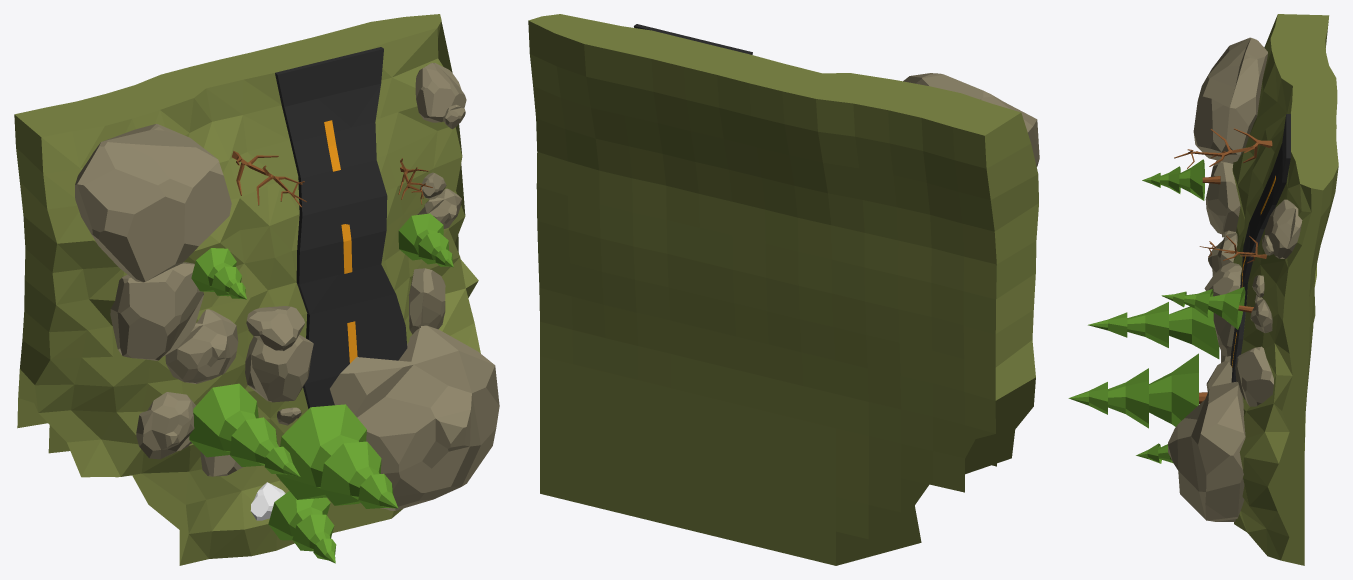
The model's file is uploads_files_3707747_landscape.glb.
3 renders of one model, left to right at view 1: azimuth 30°, elevation 25°; view 2: azimuth 150°, elevation 25°; view 3: azimuth 270°, elevation 25°, orthographic. The views are drawn at different scales.
Visible parts, largest first — view 1: Terrain, Road, Rock.001, Rock.003, Tree, Rock, Tree.002, Rock.008, Rock.009, Tree.001, Rock.004, Rock.020 (+9 smaller); view 2: Terrain, Rock.003; view 3: Terrain, Rock.001, Rock.003, Tree, Tree.002, Road, Rock, Rock.015, Tree.005, Rock.020, Tree.003, Rock.010 (+6 smaller).
Part boxes in pixels (x1,y1,x2,y2): Terrain: (14, 14, 480, 565); Road: (275, 47, 407, 408); Rock.001: (330, 325, 499, 510); Rock.003: (75, 124, 231, 282); Tree: (276, 404, 397, 508); Rock: (110, 262, 203, 360); Tree.002: (189, 383, 300, 477); Rock.008: (165, 309, 238, 383); Rock.009: (245, 334, 313, 402); Tree.001: (268, 491, 336, 563); Rock.004: (136, 392, 195, 459); Rock.020: (415, 63, 466, 122); Terrain: (528, 14, 1038, 565); Rock.003: (903, 73, 1039, 166); Terrain: (1232, 14, 1338, 565); Rock.001: (1168, 361, 1245, 521); Rock.003: (1193, 37, 1267, 163); Tree: (1068, 353, 1207, 428); Tree.002: (1088, 302, 1219, 358); Road: (1230, 114, 1290, 382); Rock: (1205, 160, 1240, 237); Rock.015: (1235, 346, 1273, 406); Tree.005: (1161, 287, 1253, 329); Rock.020: (1265, 199, 1302, 258); Tree.003: (1142, 159, 1220, 200); Rock.010: (1204, 262, 1241, 296).
Bounding box in the file's own units: 7.46 × 7 × 4.57.
